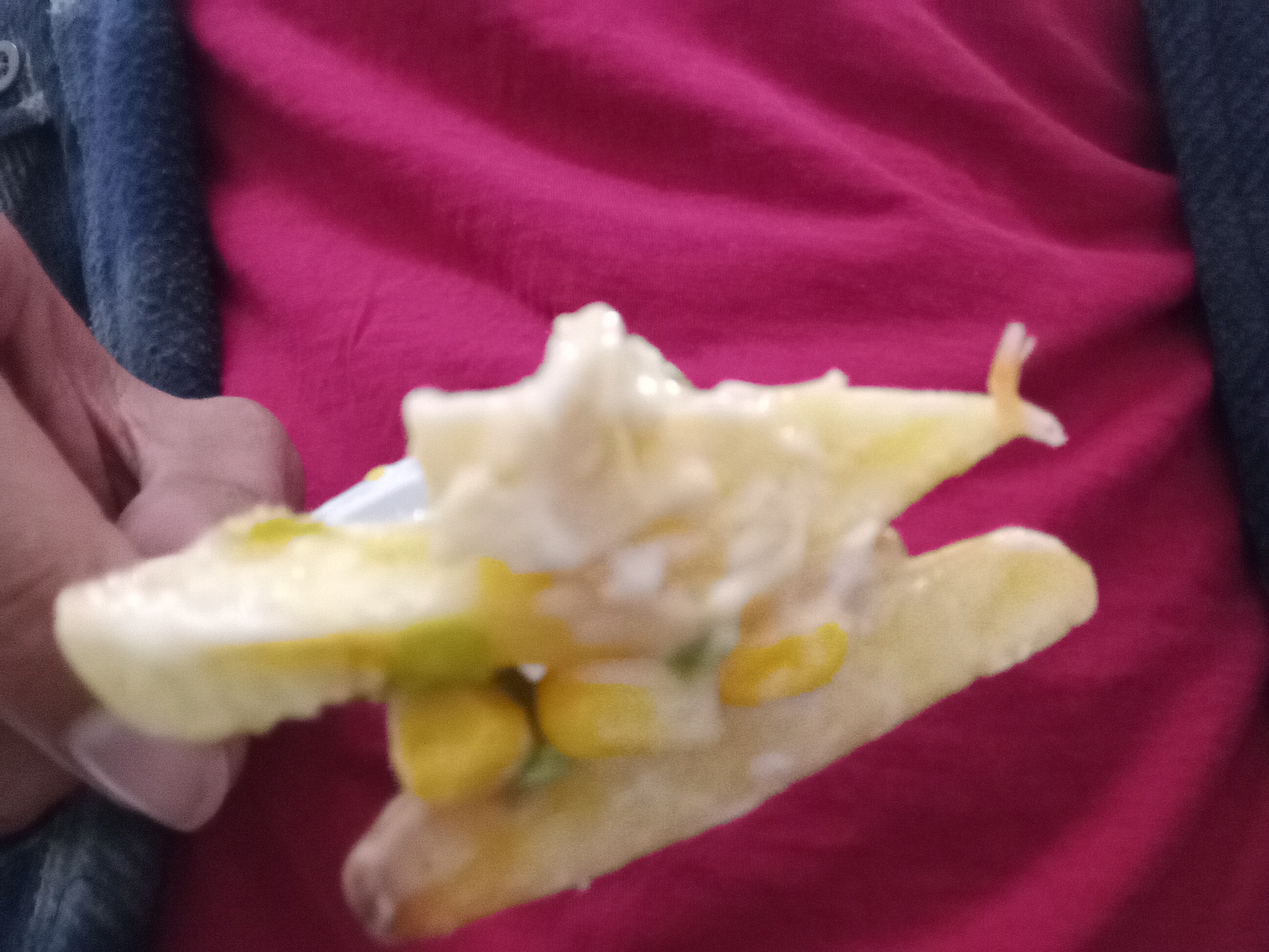Organico: (52, 304, 1099, 944)
